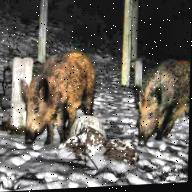boar: (6, 49, 107, 157), (121, 52, 191, 142)
